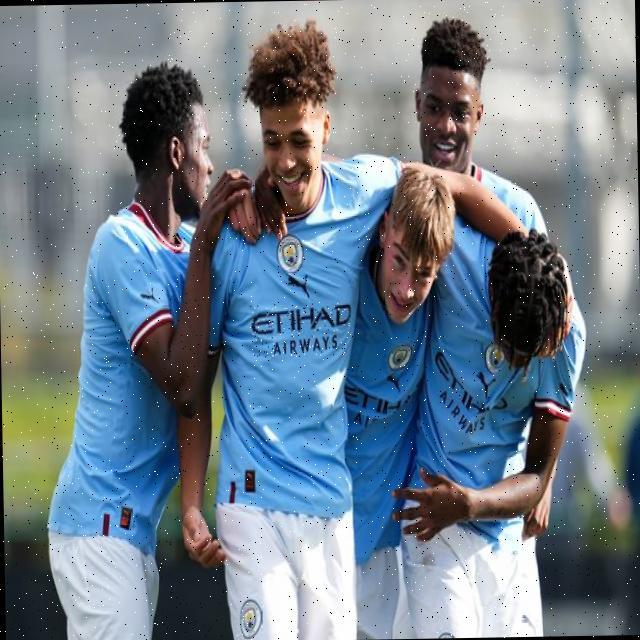Etihad Airways: (250, 303, 351, 358)
